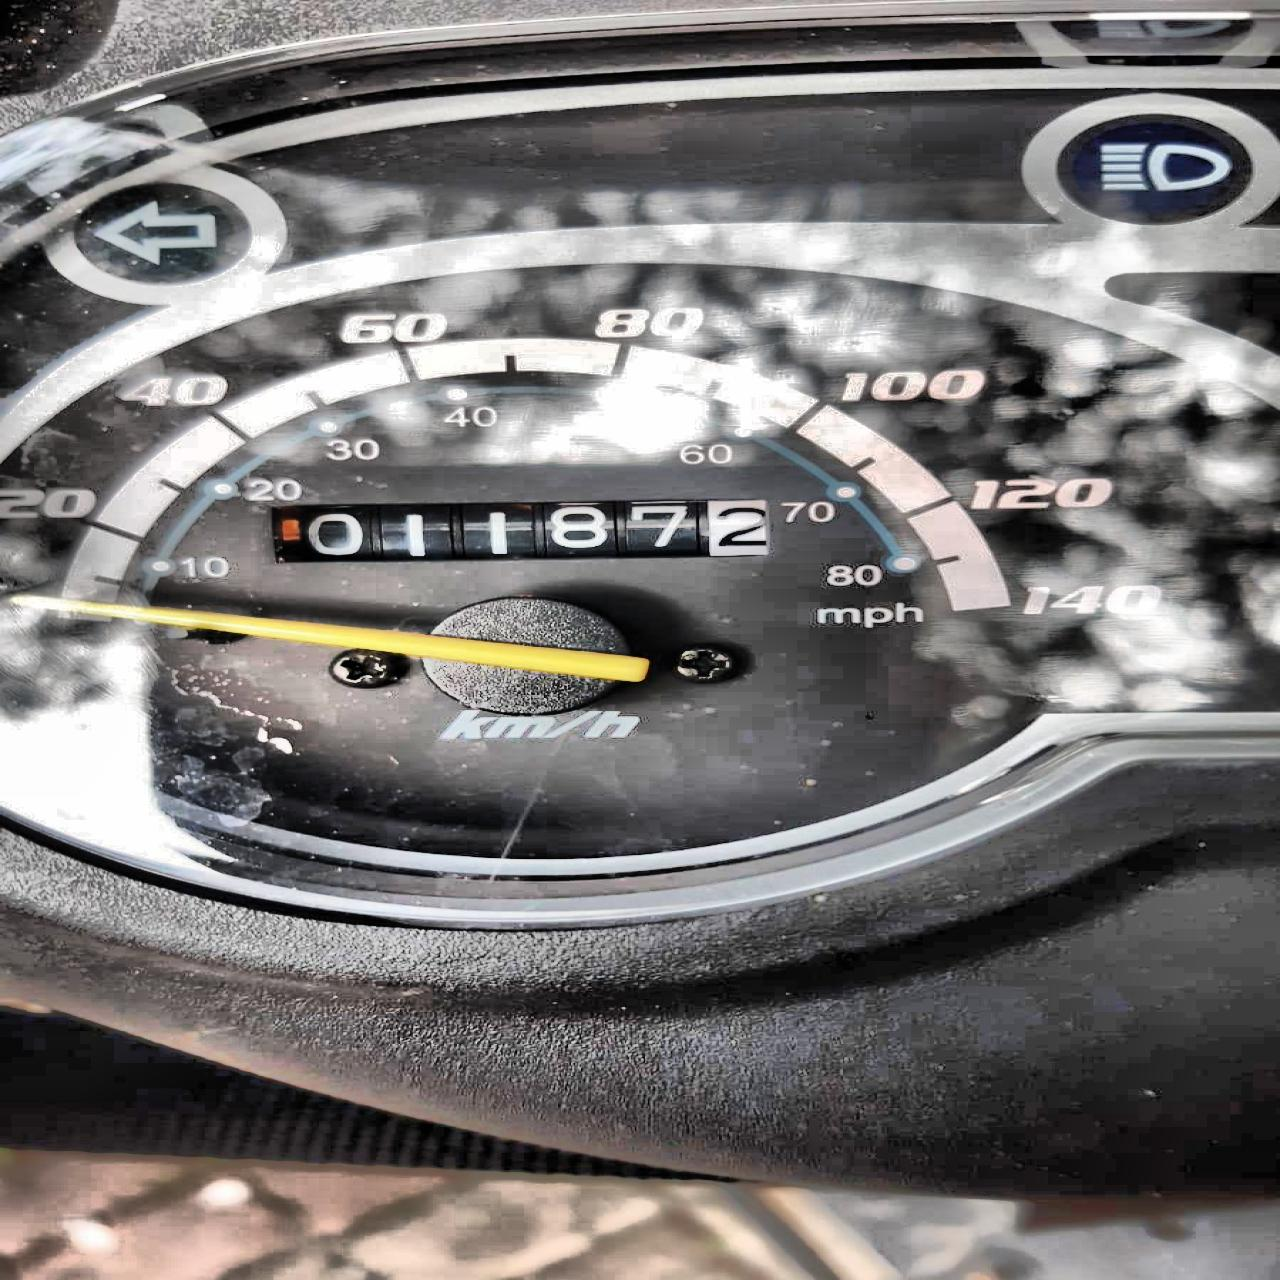0: (293, 510, 365, 558)
1: (471, 506, 513, 563), (395, 505, 429, 564)
2: (710, 506, 771, 561)
7: (628, 504, 688, 547)
8: (549, 504, 612, 554)
odometer: (263, 496, 782, 570)
